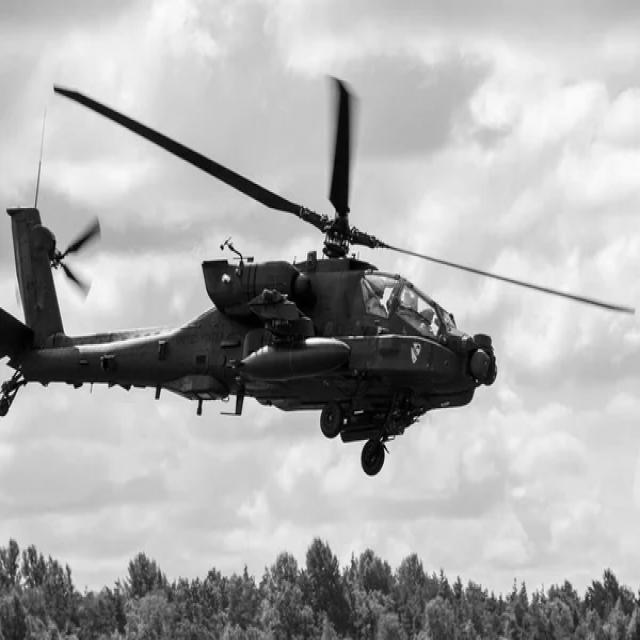Helicopter: (0, 78, 635, 476)
